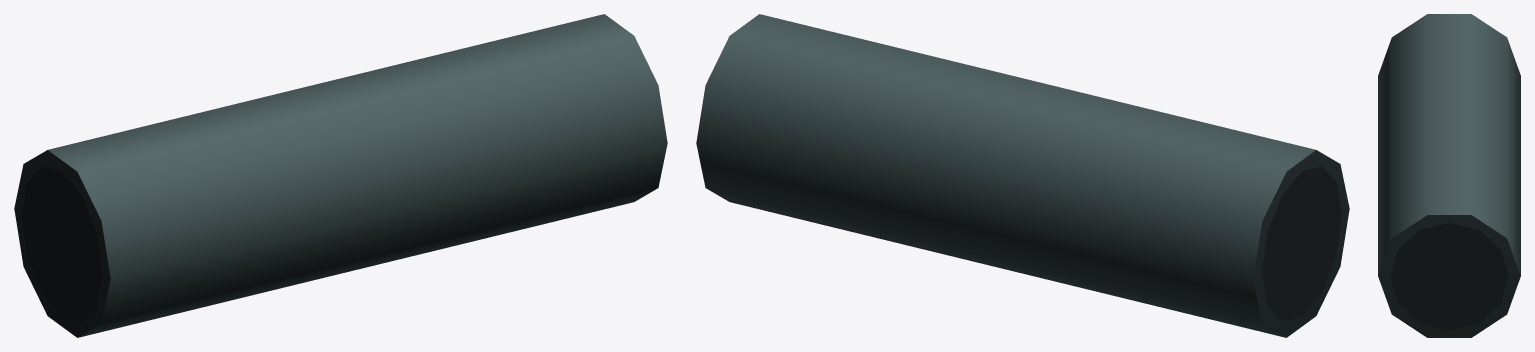
Rendered from Pipe_3E.fbx.
3 renders of one model, left to right at view 1: azimuth 30°, elevation 25°; view 2: azimuth 150°, elevation 25°; view 3: azimuth 270°, elevation 25°, orthographic. The views are drawn at different scales.
Parts seen in each view (by area): view 1: Pipe_3E; view 2: Pipe_3E; view 3: Pipe_3E.
Boxes of the visible parts, box(x1,y1,x2,y2) form: Pipe_3E: box(14, 14, 667, 337); Pipe_3E: box(696, 14, 1349, 337); Pipe_3E: box(1378, 14, 1520, 337).
Bounding box in the file's own units: 401 × 114 × 120.
